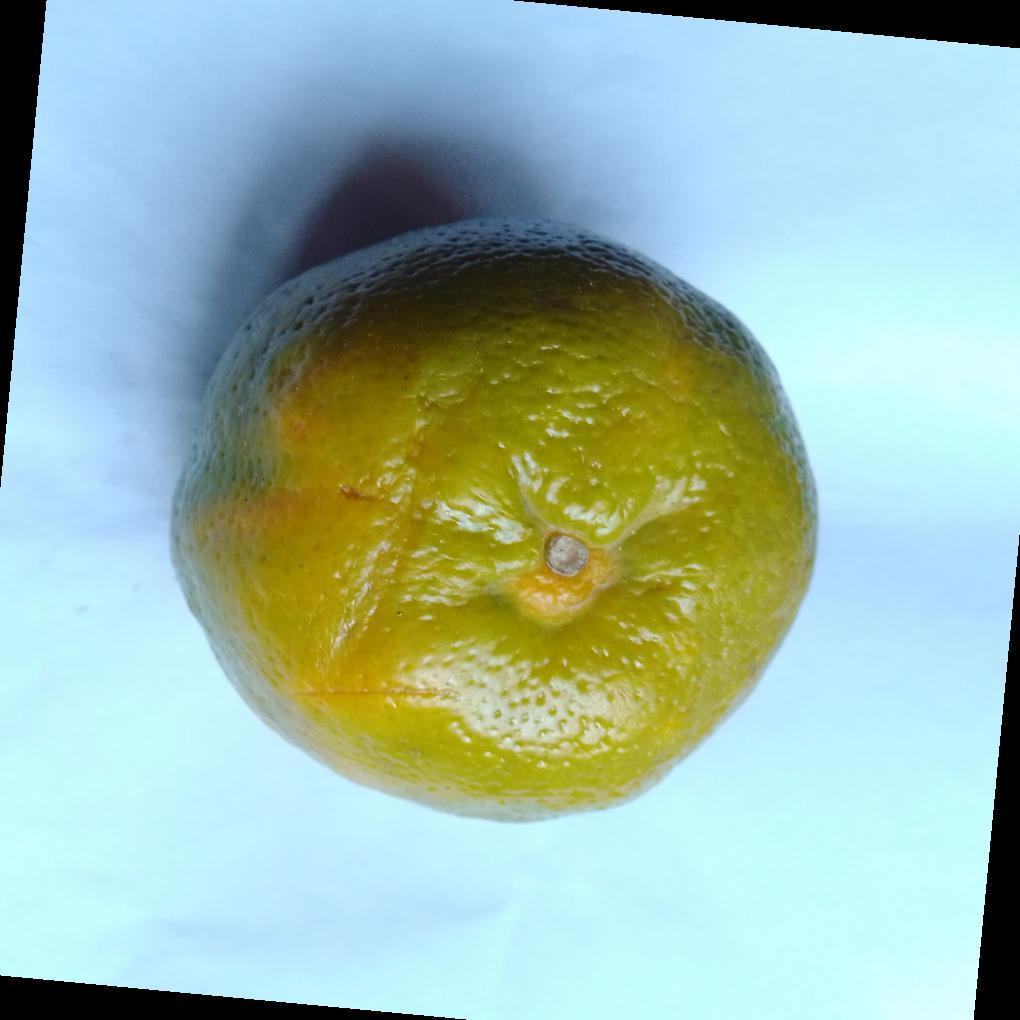FreshGuava: (168, 216, 820, 828)
